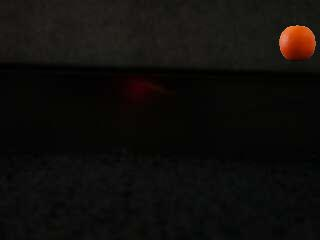Orange: (279, 24, 315, 61)
